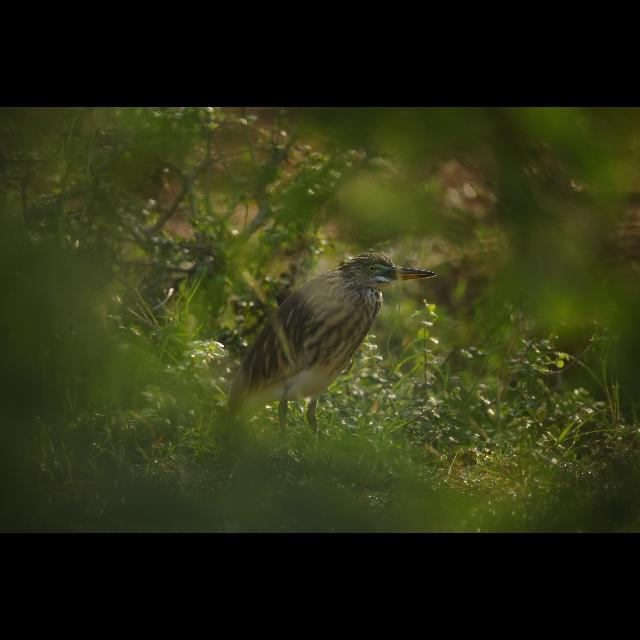heron: (221, 242, 441, 434)
